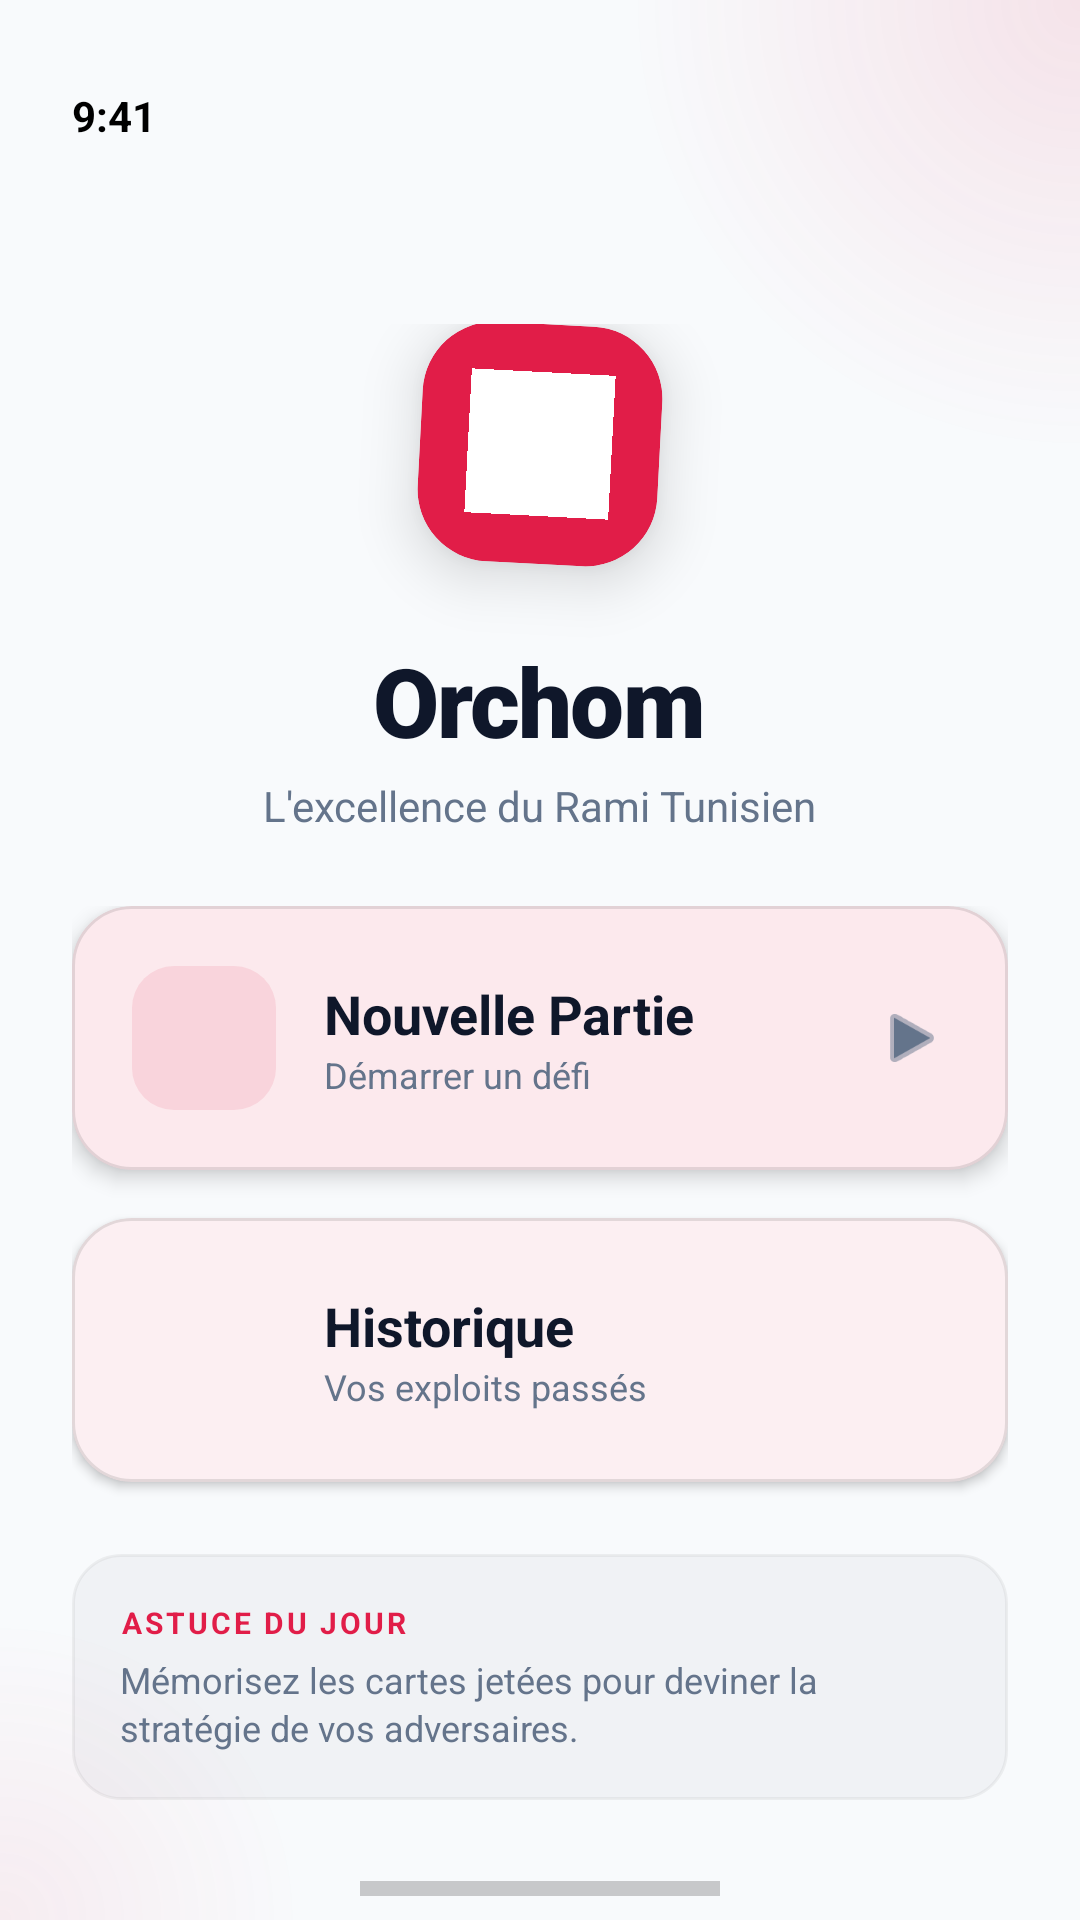

Icon click points for this 1080 x 1920 phone screenshot, format (x=x, y=y):
play: (x=912, y=1038)
